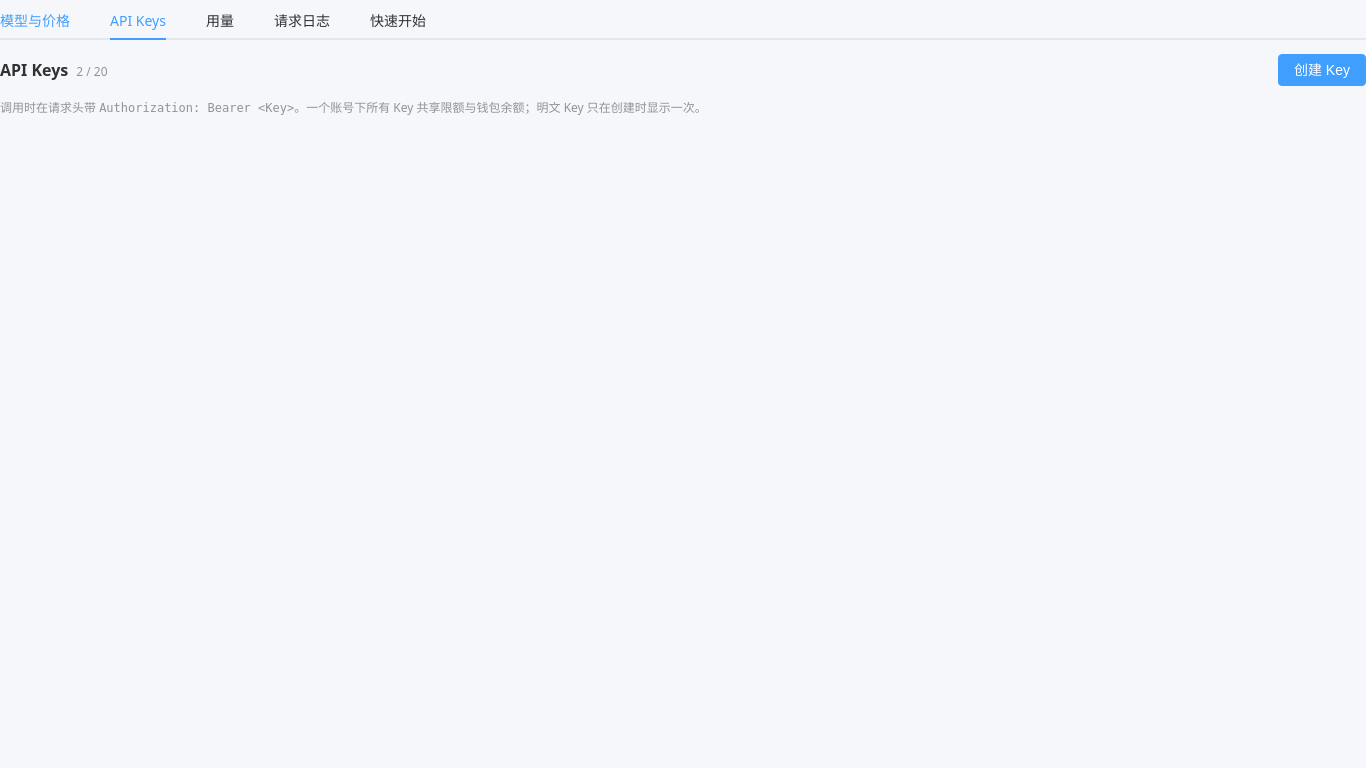
Test: 创建 Key › 前端校验失败不发请求
Click the button "创建 Key" at [1322, 70], box x1=1278 y1=54 x2=1365 y2=86
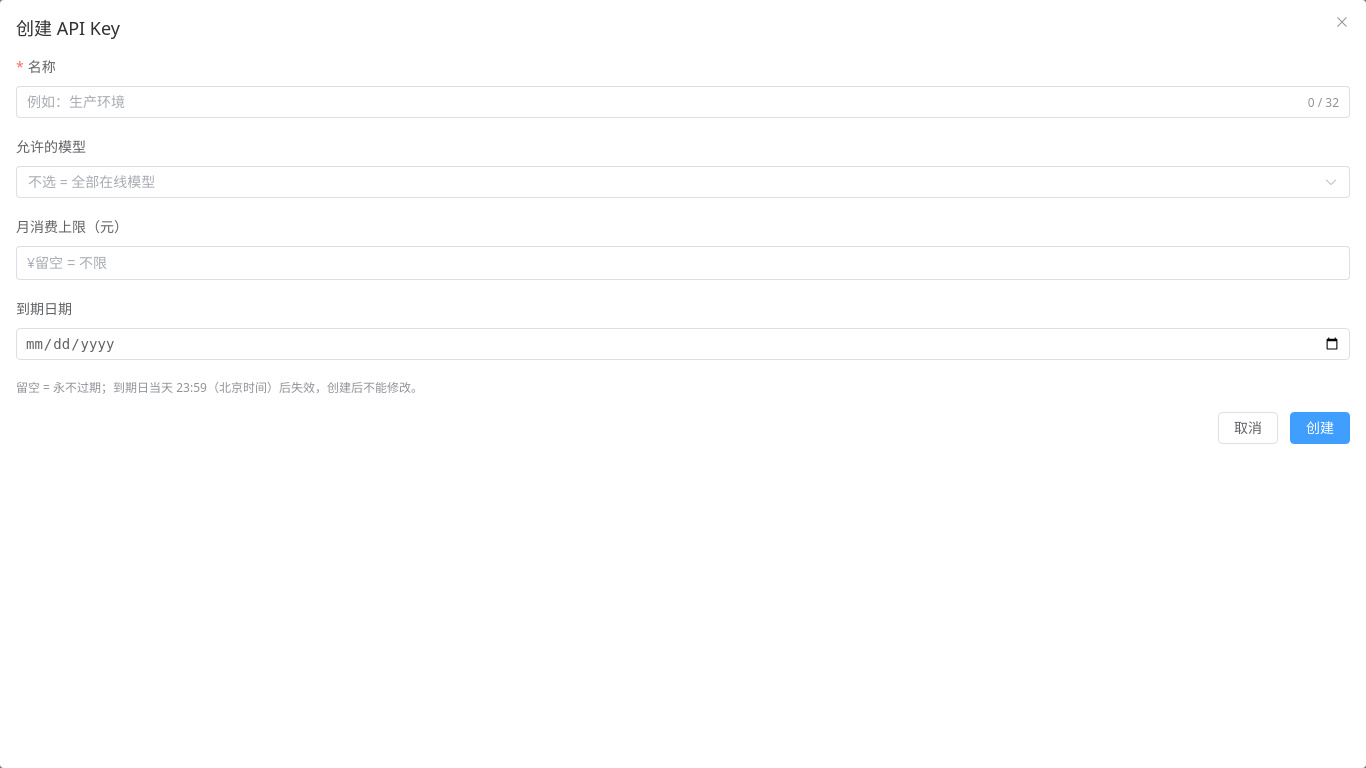
Type "1.234" into the field labelled "月消费上限（元）" at [687, 263], box x1=35 y1=248 x2=1339 y2=278
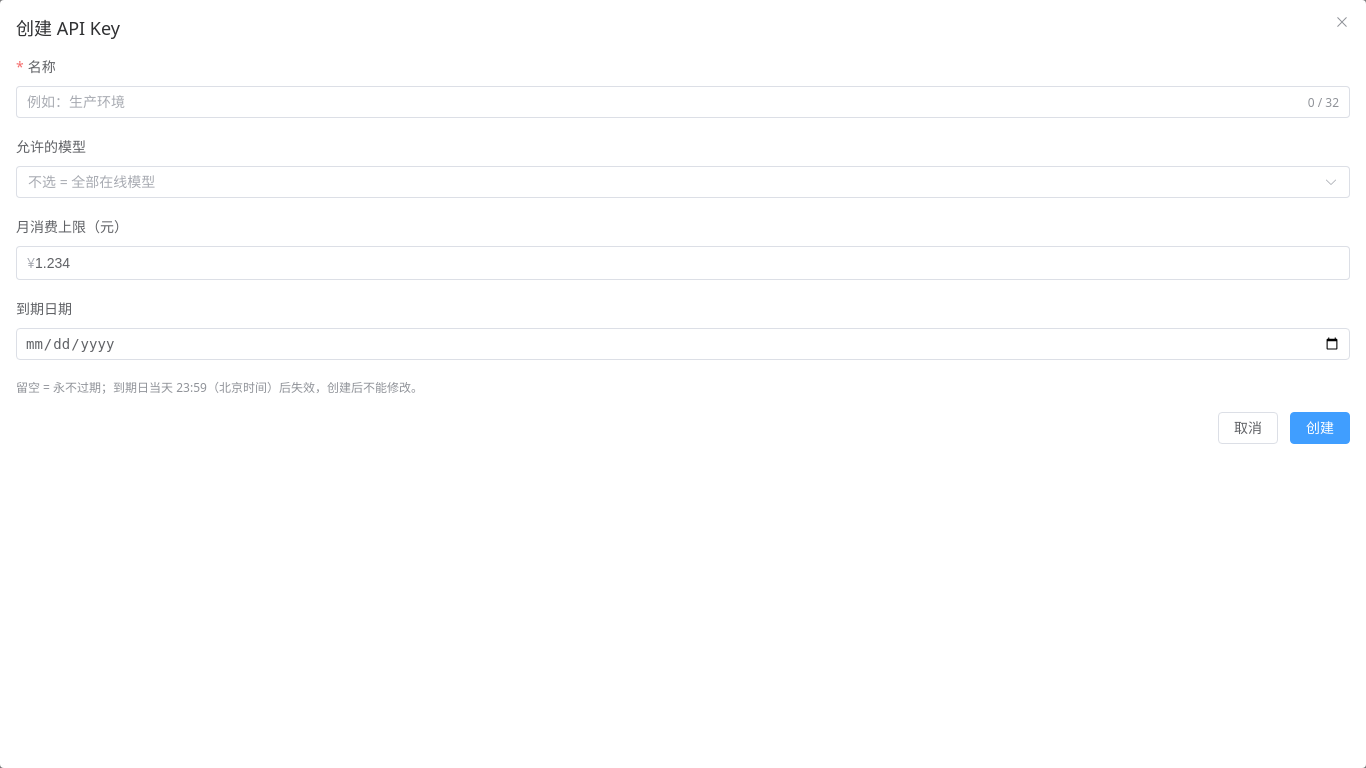
Click the button "创建" at [1320, 428], box x1=1290 y1=412 x2=1350 y2=444
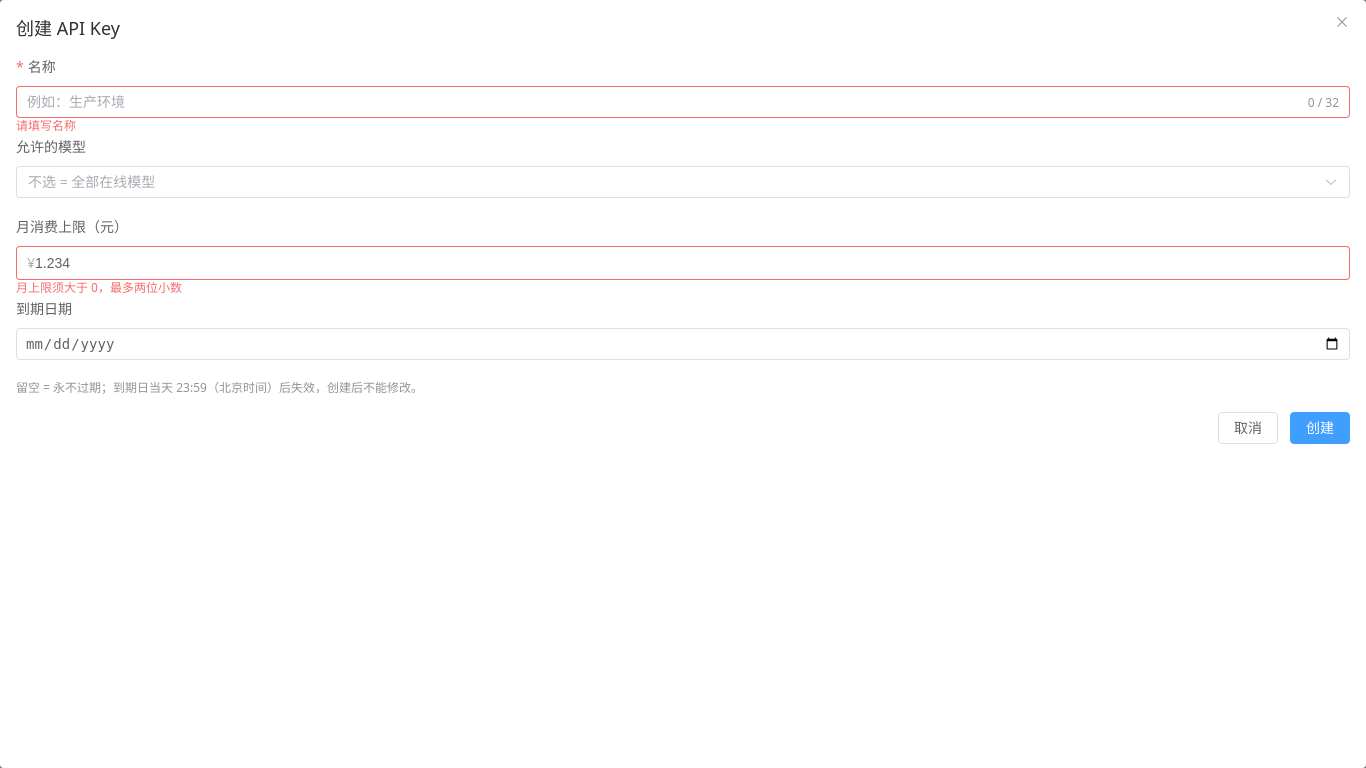
Now the element that starts with "创建 API Key" shows "请填写名称", box x1=16 y1=117 x2=76 y2=134
Now the element that starts with "创建 API Key" shows "月上限须大于 0，最多两位小数", box x1=16 y1=279 x2=182 y2=296
